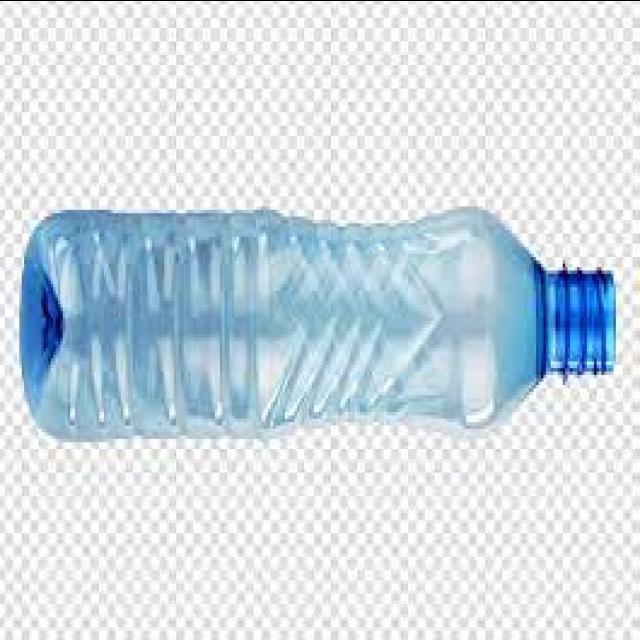plastic cup: (22, 209, 615, 440)
